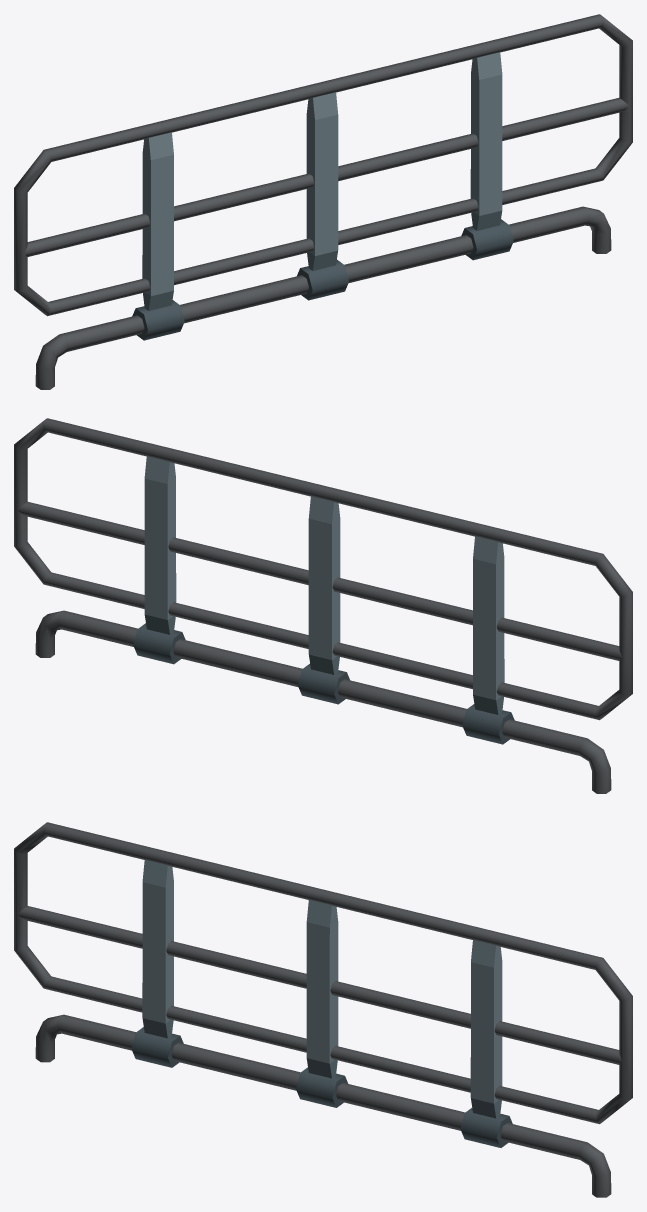
File: Fence_type_B_003.glb
3 renders of one model, top to bottom at view 1: azimuth 30°, elevation 25°; view 2: azimuth 150°, elevation 25°; view 3: azimuth 330°, elevation 25°, orthographic.
Visible parts, largest first — view 1: Fence_type_B_003; view 2: Fence_type_B_003; view 3: Fence_type_B_003.
Part boxes in pixels (x1=…): Fence_type_B_003: x1=14, y1=14, x2=632, y2=389; Fence_type_B_003: x1=14, y1=418, x2=632, y2=793; Fence_type_B_003: x1=14, y1=822, x2=632, y2=1197.
Bounding box in the file's own units: 3.9 × 1.42 × 0.1839.
Materials: 1 (1 with a texture image).
